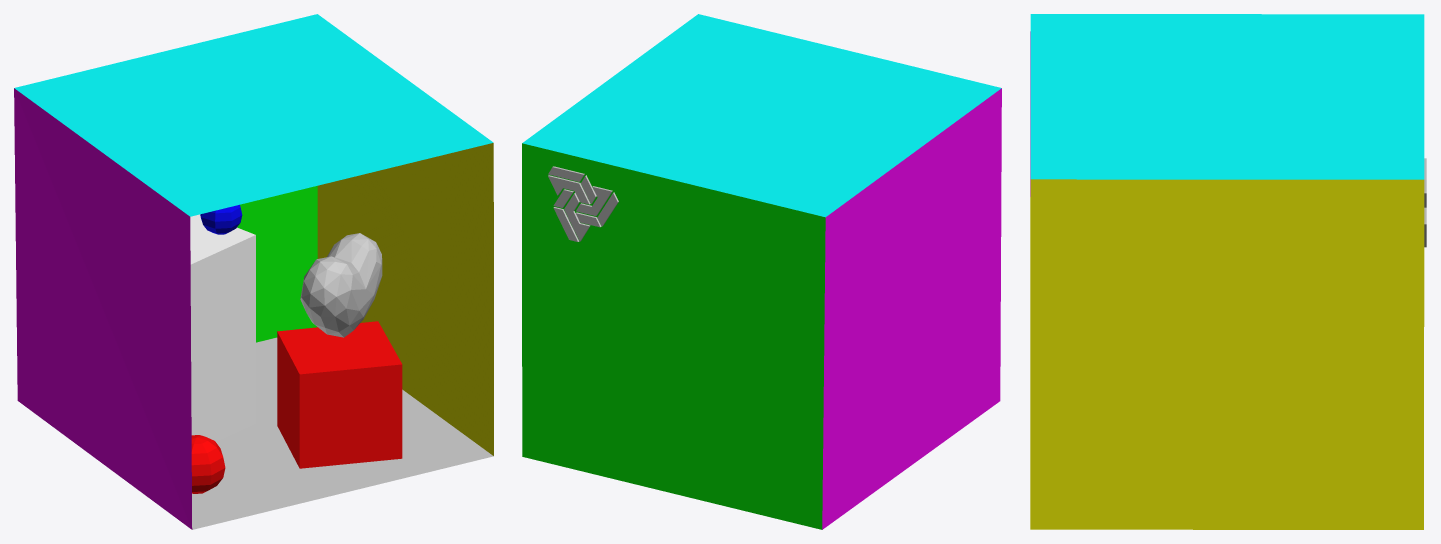
File: loveBox3.obj
3 views of the same model, side by side, from view 1: azimuth 30°, elevation 25°; view 2: azimuth 150°, elevation 25°; view 3: azimuth 270°, elevation 25° (orthographic). The views are drawn at different scales.
Parts seen in each view (by area): view 1: left_wall, ceiling, right_wall, short_box, floor, tall_box, back_wall, Love, sphere2, sphere3; view 2: back_wall, left_wall, ceiling, logo; view 3: right_wall, ceiling.
Boxes of the visible parts, bbox=[...] form: left_wall: bbox=[14, 88, 192, 529]; ceiling: bbox=[14, 14, 493, 216]; right_wall: bbox=[317, 143, 493, 455]; short_box: bbox=[277, 321, 402, 468]; floor: bbox=[192, 337, 493, 529]; tall_box: bbox=[190, 214, 255, 441]; back_wall: bbox=[237, 186, 317, 342]; Love: bbox=[300, 233, 382, 337]; sphere2: bbox=[191, 435, 225, 493]; sphere3: bbox=[200, 204, 242, 234]; back_wall: bbox=[522, 143, 825, 529]; left_wall: bbox=[822, 88, 1001, 529]; ceiling: bbox=[522, 14, 1001, 217]; logo: bbox=[548, 166, 618, 241]; right_wall: bbox=[1030, 179, 1424, 529]; ceiling: bbox=[1030, 14, 1424, 179].
Bounding box in the file's own units: 5.56 × 5.49 × 5.63.
